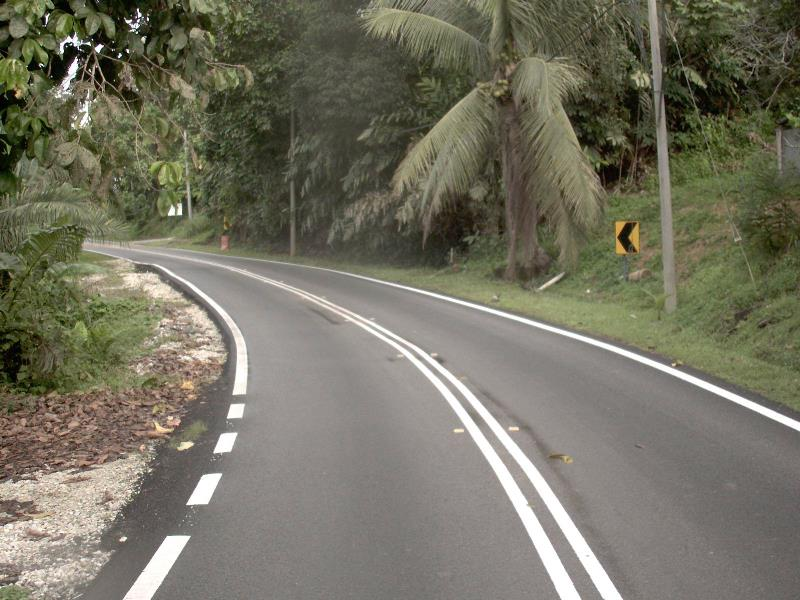traffic_sign: (606, 211, 645, 263)
